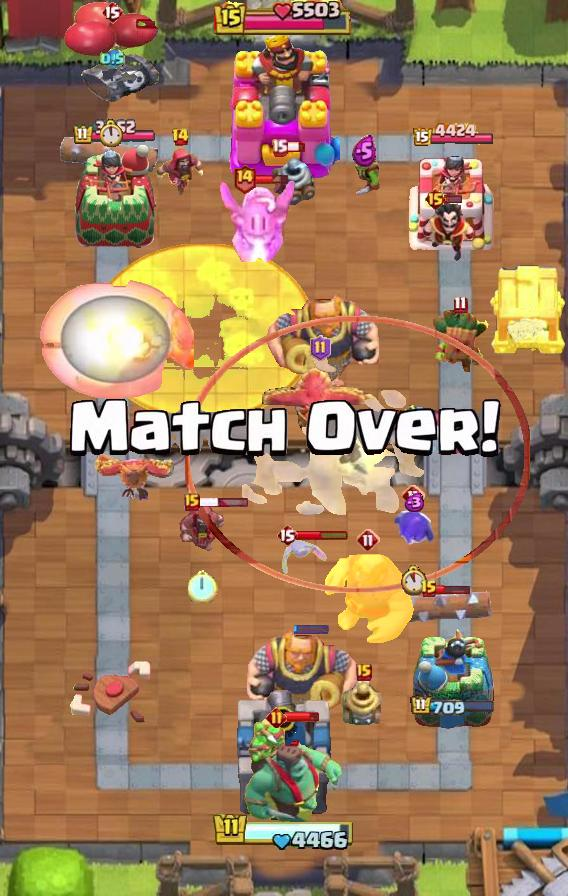balloon: (321, 543, 415, 645)
barbarian: (280, 540, 328, 576)
bomb: (488, 262, 568, 356)
bowler: (155, 145, 205, 199), (179, 502, 227, 554)
clock: (212, 811, 356, 853), (214, 0, 354, 38)
electro-spirit: (351, 135, 376, 167), (99, 48, 124, 70), (402, 493, 425, 511)
elixir: (188, 569, 218, 603), (399, 564, 428, 595), (100, 119, 124, 147)
emote: (295, 529, 348, 541), (197, 497, 249, 508), (294, 624, 330, 636), (284, 711, 320, 723), (254, 173, 289, 185), (437, 583, 472, 595), (286, 141, 306, 153), (445, 194, 464, 204)
giant-skeleton: (265, 289, 381, 389), (245, 625, 361, 725)
goblin-barrel: (431, 309, 489, 373)
goblin-drill: (270, 151, 316, 205), (341, 681, 387, 727)
golden-knight: (94, 453, 176, 503)
king-tower: (228, 29, 340, 181), (232, 686, 336, 826)
lava-hound: (241, 717, 345, 839)
lumberjack: (421, 204, 477, 264)
minion: (389, 591, 495, 627), (60, 137, 158, 173)
mother-witch: (262, 364, 378, 440)
night-witch: (218, 178, 298, 262)
phoenix-egg: (90, 244, 315, 421)
queen-tower: (406, 152, 500, 256), (71, 144, 157, 255), (411, 627, 495, 731)
royal-ghost: (186, 315, 531, 592)
royal-recruit-evolution: (61, 0, 163, 108)
selected: (71, 118, 156, 145), (413, 123, 496, 150), (410, 694, 496, 717)
spear-goblin: (392, 508, 434, 548)
text: (231, 163, 256, 194), (401, 484, 425, 508), (356, 528, 380, 552), (425, 187, 448, 211), (309, 335, 330, 361), (101, 0, 123, 24), (276, 523, 298, 547), (265, 707, 286, 728), (170, 127, 189, 147), (420, 579, 438, 599), (272, 139, 289, 158), (184, 493, 200, 511), (356, 663, 372, 681), (453, 295, 467, 314)
valkyrie: (38, 280, 194, 400)
zap: (345, 149, 383, 197)
